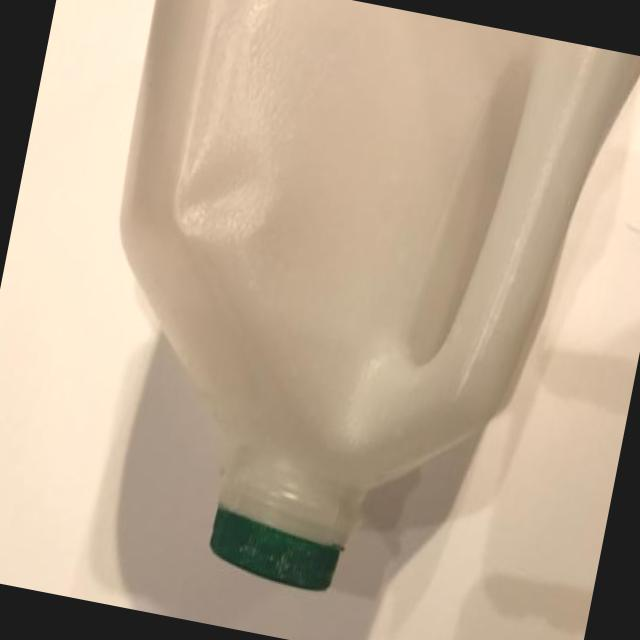plastic: (122, 0, 639, 546), (210, 507, 341, 591)
